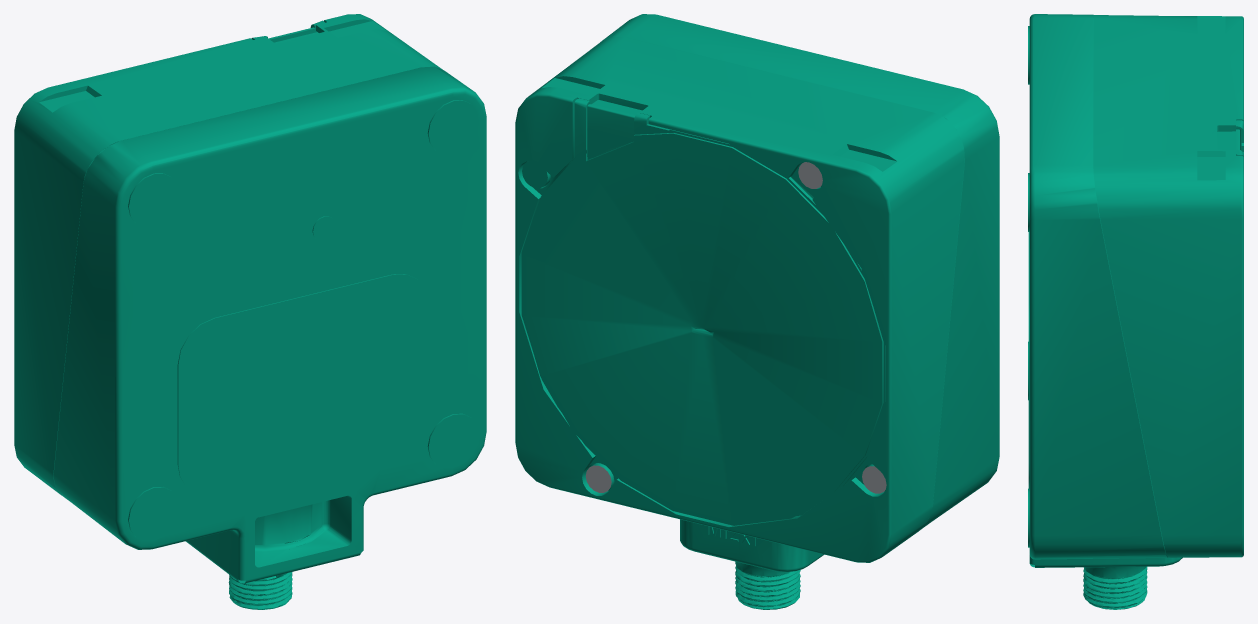
The model's file is IQT1-FP-IO-V1.dae.
The picture shows the model from 3 angles, left to right: view 1: azimuth 30°, elevation 25°; view 2: azimuth 150°, elevation 25°; view 3: azimuth 270°, elevation 25°; orthographic projection. The views are drawn at different scales.
Visible parts, largest first — view 1: _Read_write_stati10001864_0; view 2: _Read_write_stati10001864_0, _Read_write_stati10001865_0; view 3: _Read_write_stati10001864_0, _Read_write_stati10001865_0.
Part boxes in pixels (box(x1,y1,x2,y2)): _Read_write_stati10001864_0: box(14, 14, 486, 609); _Read_write_stati10001864_0: box(515, 14, 999, 609); _Read_write_stati10001865_0: box(521, 98, 885, 525); _Read_write_stati10001864_0: box(1028, 14, 1243, 609); _Read_write_stati10001865_0: box(1217, 120, 1243, 157).
Size of the model in its own units: 80.47 by 104 by 40.3.
